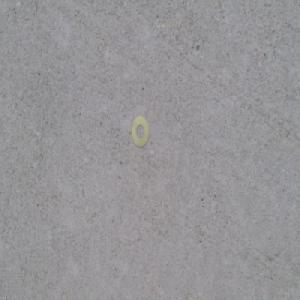Washer: (130, 114, 149, 148)
